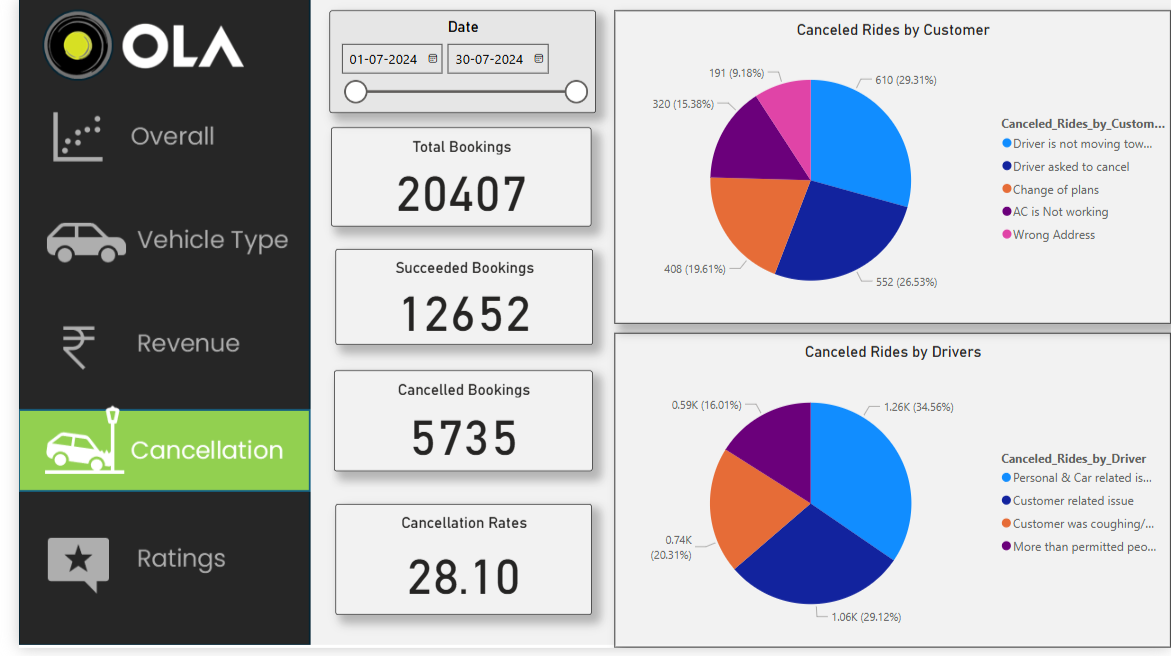

This screenshot's page, from the dashboard's own definition file:
{"tool":"powerbi","page":{"name":"Cancellations","canvas":[1280,720],"ordinal":3},"visuals":[{"type":"actionButton","box":[0,219.6,322.1,92.7],"z":0},{"type":"actionButton","box":[0,226.1,322.1,92.7],"z":1000},{"type":"actionButton","box":[10,236.1,322.1,92.7],"z":2000},{"type":"actionButton","box":[0,328.6,322.1,100.8],"z":3000},{"type":"actionButton","box":[0,588.8,322.1,104.1],"z":4000},{"type":"actionButton","box":[9.8,110.6,312.3,92.7],"z":5000},{"type":"pieChart","title":"Canceled Rides by Customer","fields":{"Y":["CountNonNull(July.Canceled_Rides_by_Customer)"],"Category":["July.Canceled_Rides_by_Customer"]},"box":[661.9,11.4,618.1,348.1],"z":6000},{"type":"pieChart","title":"Canceled Rides by Drivers","fields":{"Y":["CountNonNull(July.Canceled_Rides_by_Driver)"],"Category":["July.Canceled_Rides_by_Driver"]},"box":[661.4,370.4,618,349.6],"z":7000},{"type":"slicer","title":"Date","fields":{"Values":["July.Date"]},"box":[344.8,11.4,296,113.9],"z":8000},{"type":"card","title":"Total Bookings","fields":{"Values":["Count(July.Booking_ID)"]},"box":[347.4,141.9,289.5,110.2],"z":9000},{"type":"card","title":"Succeeded Bookings","fields":{"Values":["Count(July.Booking_ID)"]},"box":[351.1,276.4,285.8,106.5],"z":10000},{"type":"card","title":"Cancelled Bookings","fields":{"Values":["Count(July.Booking_ID)"]},"box":[349.3,410.9,287.6,112.1],"z":11000},{"type":"card","title":"Cancellation Rates","fields":{"Values":["July.CanceledPercentage"]},"box":[351.3,559.5,284.6,123.6],"z":12000}]}

Visuals, with their boxes on the page's 1280x720 design canvas (x1, y1, x2, y2). These are canvas units, not pixel positions in the 1171x656 screenshot, which may show the page scaled, cropped or inside an application window:
actionButton: 0:220:322:312
actionButton: 0:226:322:319
actionButton: 10:236:332:329
actionButton: 0:329:322:429
actionButton: 0:589:322:693
actionButton: 10:111:322:203
"Canceled Rides by Customer" pieChart: 662:11:1280:360
"Canceled Rides by Drivers" pieChart: 661:370:1279:720
"Date" slicer: 345:11:641:125
"Total Bookings" card: 347:142:637:252
"Succeeded Bookings" card: 351:276:637:383
"Cancelled Bookings" card: 349:411:637:523
"Cancellation Rates" card: 351:560:636:683
